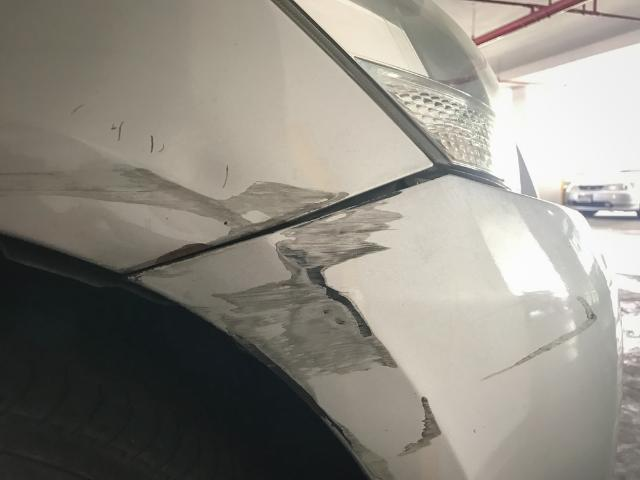scratch: (126, 188, 446, 480), (0, 159, 348, 275), (477, 293, 598, 381)
